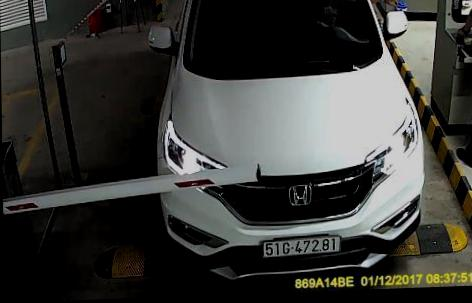License_Plate: (263, 234, 340, 259)
